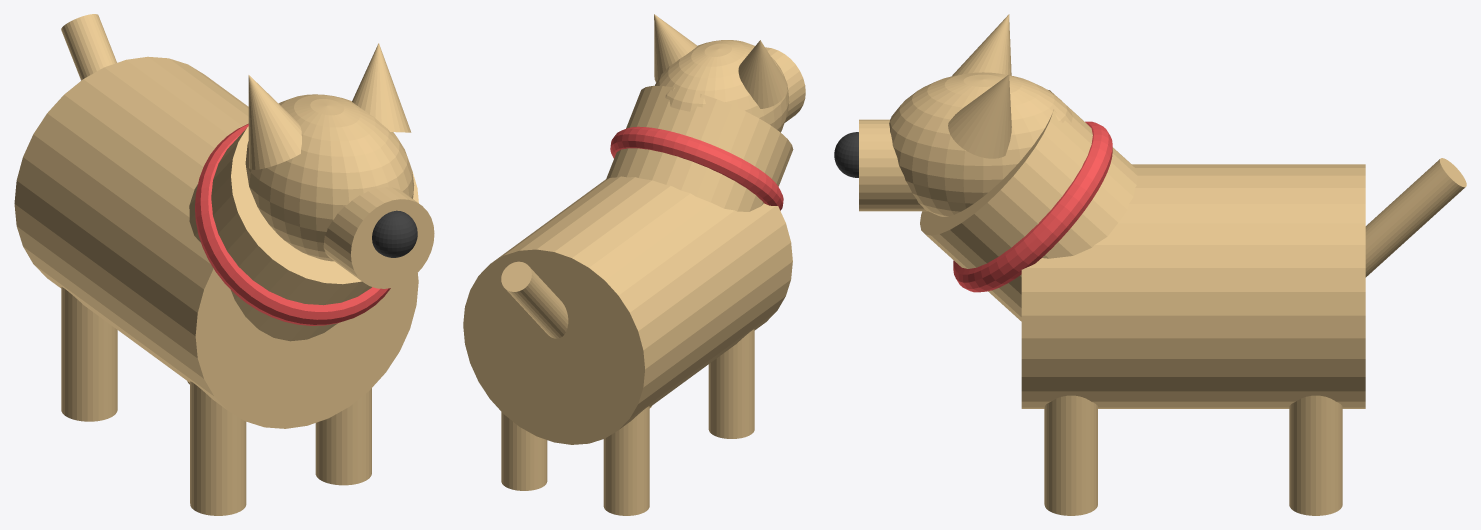
The model's file is dog_golden_retriever.glb.
3 renders of one model, left to right at view 1: azimuth 30°, elevation 25°; view 2: azimuth 150°, elevation 25°; view 3: azimuth 270°, elevation 25°, orthographic. The views are drawn at different scales.
Parts seen in each view (by area): view 1: Cylinder, Sphere, Cylinder.001, Cylinder.002, Cylinder.003, Cylinder.004, Torus, Cylinder.005, Cone, Cone.001, Cylinder.007, Sphere.001; view 2: Cylinder, Cylinder.001, Sphere, Cylinder.004, Torus, Cylinder.003, Cylinder.006, Cylinder.007, Cone, Cone.001, Cylinder.002; view 3: Cylinder, Cylinder.001, Sphere, Cylinder.005, Cylinder.006, Torus, Cylinder.007, Cylinder.002, Cone.001, Cone, Sphere.001.
Part boxes in pixels (x1,y1,x2,y2): Cylinder: (14, 56, 418, 428); Sphere: (245, 94, 414, 261); Cylinder.001: (189, 126, 418, 341); Cylinder.002: (323, 187, 434, 288); Cylinder.003: (190, 381, 246, 515); Cylinder.004: (61, 287, 117, 421); Torus: (195, 123, 390, 325); Cylinder.005: (315, 388, 371, 485); Cone: (248, 75, 301, 169); Cone.001: (352, 43, 411, 132); Cylinder.007: (61, 14, 116, 80); Sphere.001: (372, 210, 417, 257); Cylinder: (463, 176, 792, 444); Cylinder.001: (606, 85, 793, 211); Sphere: (654, 40, 789, 132); Cylinder.004: (603, 406, 649, 515); Torus: (610, 126, 783, 210); Cylinder.003: (708, 329, 754, 438); Cylinder.006: (501, 412, 547, 490); Cylinder.007: (501, 261, 568, 338); Cone: (738, 40, 786, 108); Cone.001: (654, 14, 696, 82); Cylinder.002: (765, 47, 805, 122); Cylinder: (1021, 164, 1365, 408); Cylinder.001: (920, 89, 1137, 321); Sphere: (889, 72, 1072, 216); Cylinder.005: (1044, 395, 1097, 515); Cylinder.006: (1289, 395, 1342, 515); Torus: (953, 121, 1112, 292); Cylinder.007: (1365, 158, 1466, 277); Cylinder.002: (859, 119, 927, 211); Cone.001: (948, 74, 1011, 158); Cone: (952, 14, 1011, 76); Sphere.001: (834, 132, 858, 177).
Bounding box in the file's own units: 0.64 × 1.24 × 1.65.
